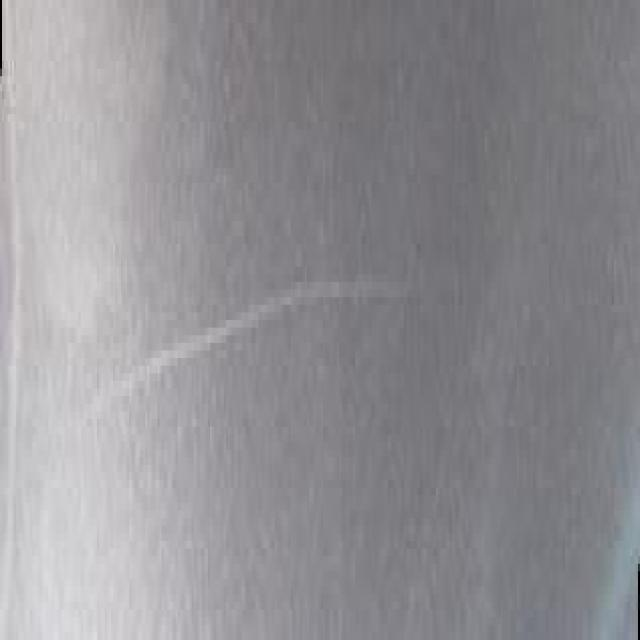scratch: (50, 236, 406, 556)
